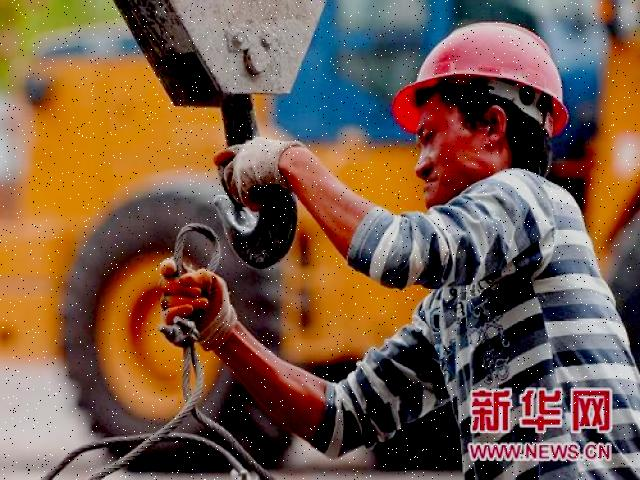Helmet: (386, 17, 571, 143)
